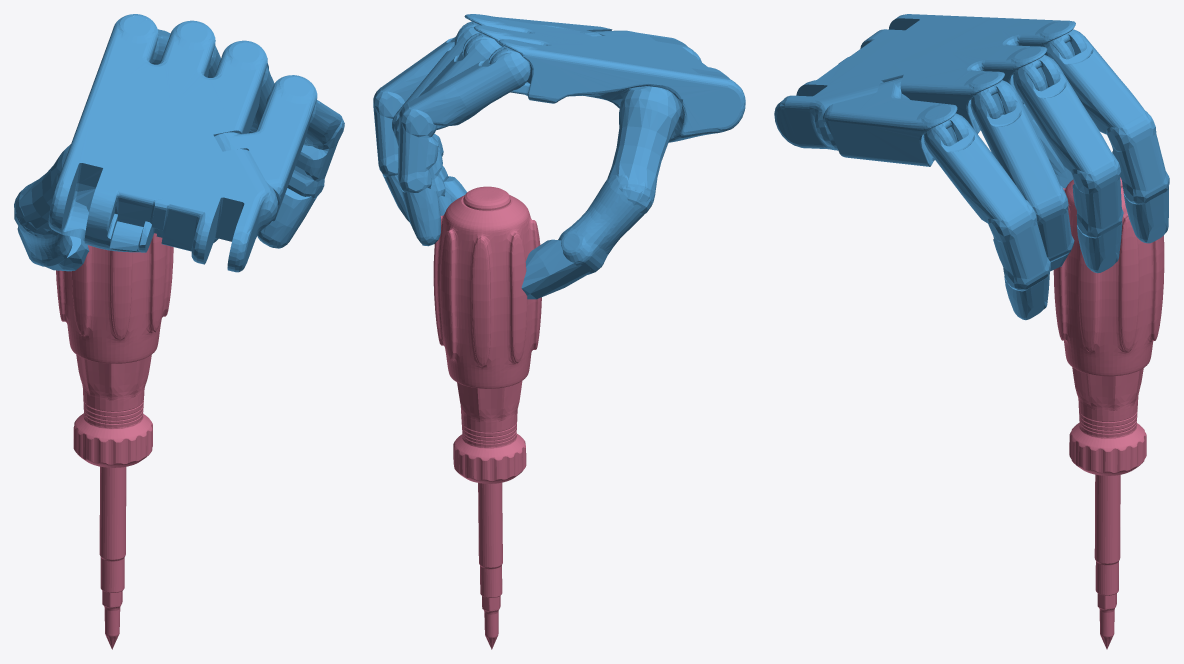
3 views of the same model, side by side, from view 1: azimuth 30°, elevation 25°; view 2: azimuth 150°, elevation 25°; view 3: azimuth 270°, elevation 25° (orthographic). The views are drawn at different scales.
Visible parts, largest first — view 1: 5; view 2: 5; view 3: 5.
Part boxes in pixels (x1=…): 5: x1=14, y1=14, x2=344, y2=649; 5: x1=373, y1=14, x2=745, y2=649; 5: x1=774, y1=14, x2=1169, y2=649.
Bounding box in the file's own units: 0.1565 × 0.2787 × 0.1595.
